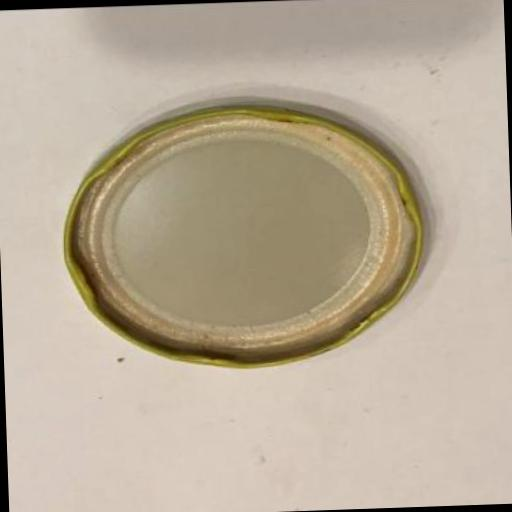metal: (56, 98, 427, 374)
